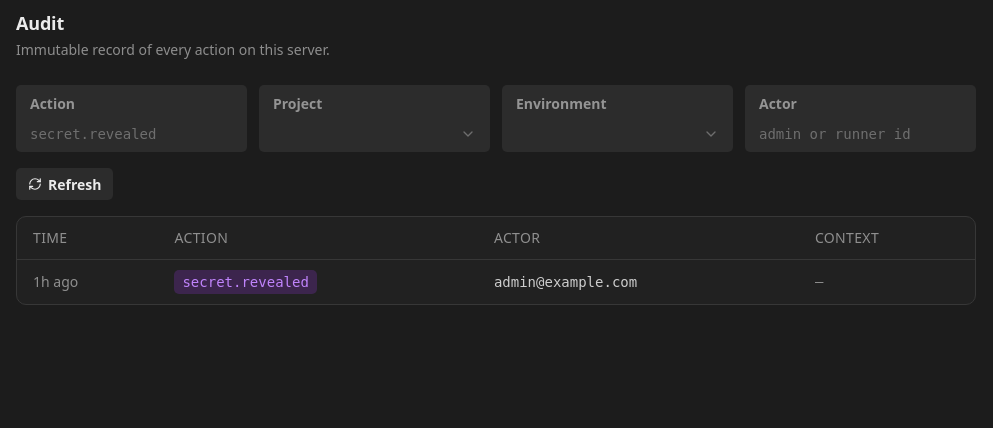
AuditPage › shows the raw timestamp when an event is expanded
Expected: the text "2026-09-26T10:15:30.123Z" is not shown
Click the row "1h ago secret.revealed admin@example.com —" at (496, 282), box left=17, top=260, right=975, bottom=304
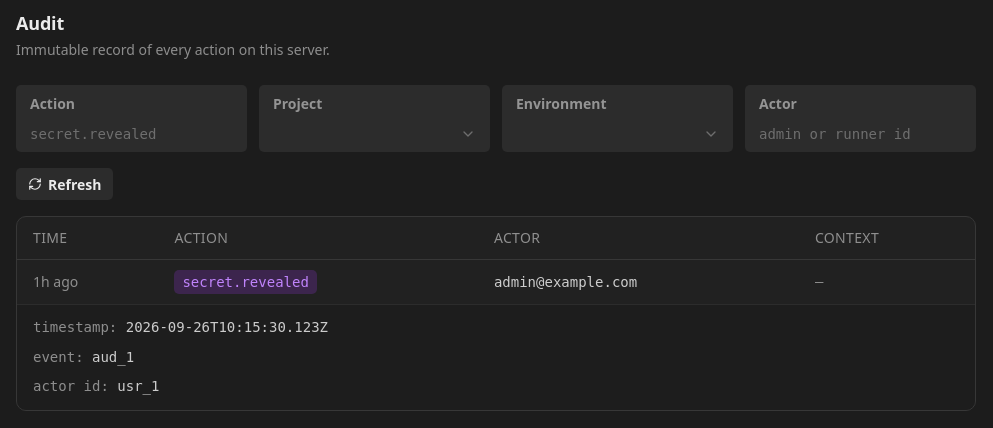
Expected: the text "timestamp:" is shown, left=33, top=319, right=117, bottom=335
Expected: the text "2026-09-26T10:15:30.123Z" is shown, left=117, top=319, right=328, bottom=335
